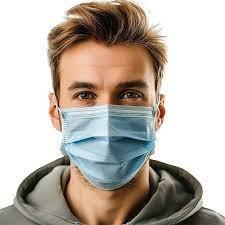mask: (58, 104, 162, 202)
